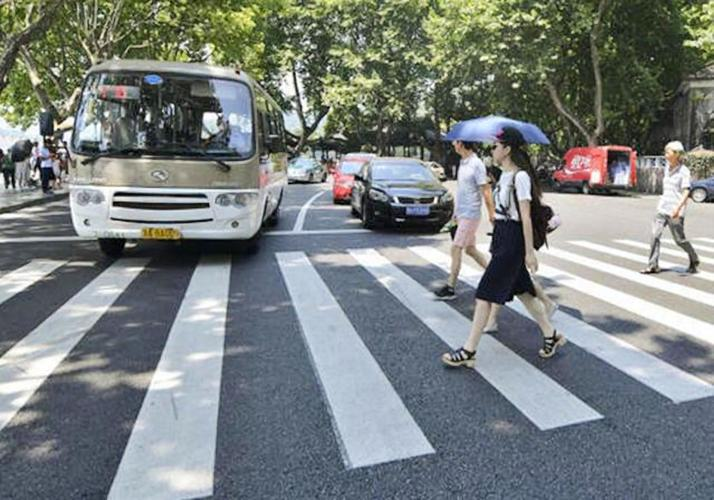bus: (60, 51, 279, 253)
car: (345, 163, 454, 236), (555, 137, 640, 198)
person: (442, 120, 570, 370), (471, 132, 545, 295), (442, 144, 503, 306), (647, 153, 709, 283)
